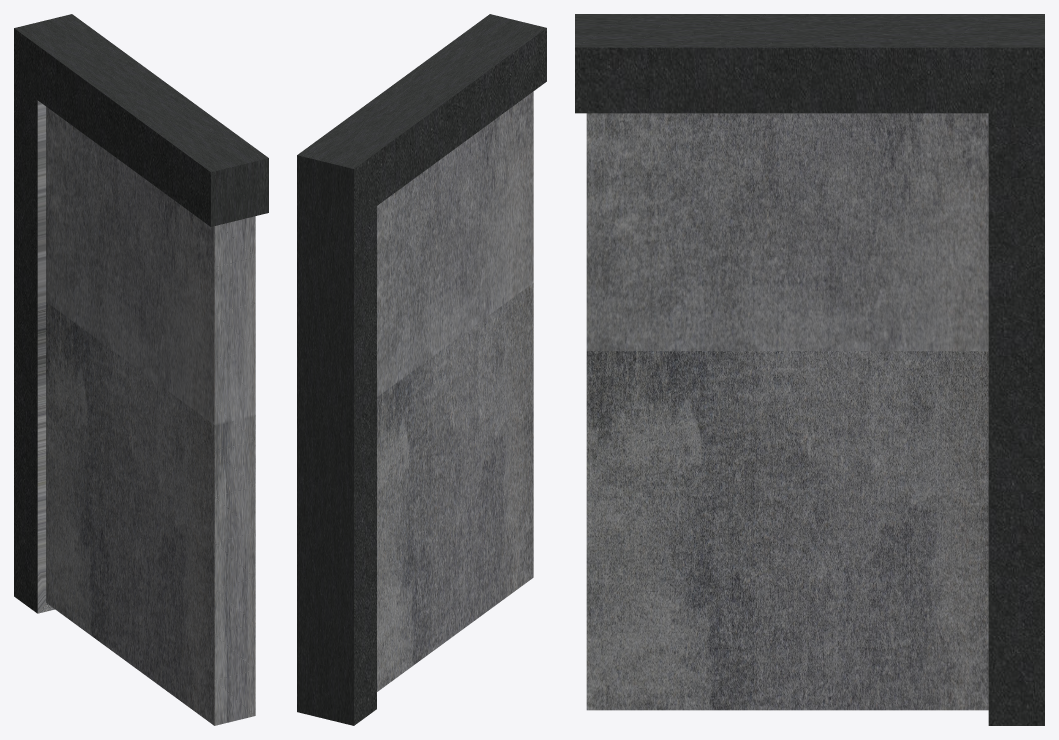
File: Object_Wall.fbx
The picture shows the model from 3 angles, left to right: view 1: azimuth 30°, elevation 25°; view 2: azimuth 150°, elevation 25°; view 3: azimuth 270°, elevation 25°; orthographic projection. The views are drawn at different scales.
Visible parts, largest first — view 1: Object_Wall; view 2: Object_Wall; view 3: Object_Wall.
Part boxes in pixels (x1,y1,x2,y2): Object_Wall: (14,14,268,725); Object_Wall: (297,14,546,725); Object_Wall: (575,14,1044,725).
Bounding box in the file's own units: 6.82 × 63.74 × 40.02.
Materials: 2 (2 with a texture image).
